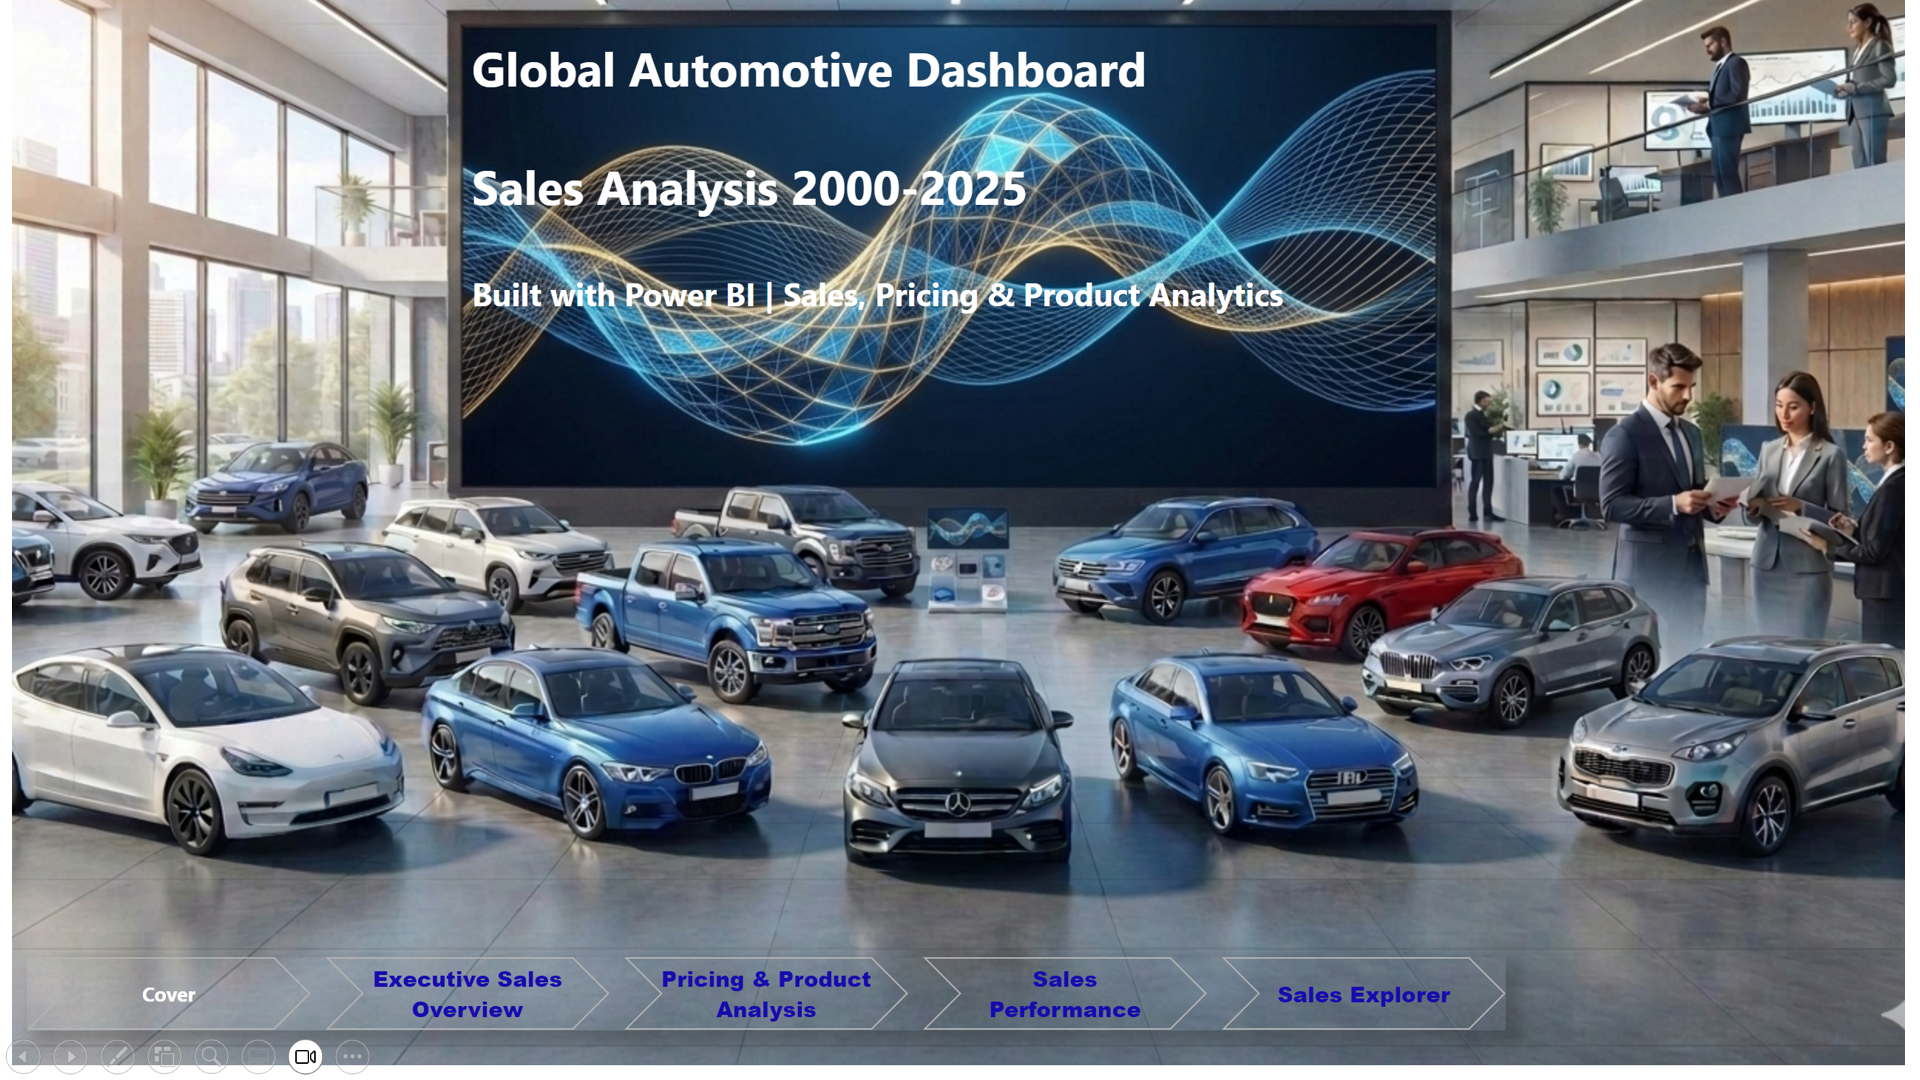

The dashboard page shown, as its layout file describes it:
{"tool":"powerbi","page":{"name":"Cover","canvas":[1280,720],"ordinal":0},"visuals":[{"type":"textbox","box":[306,19.2,568.1,79.6],"z":0},{"type":"textbox","box":[306,98.8,568.1,61.7],"z":1000},{"type":"pageNavigator","box":[9.7,646.7,1000.1,49.5],"z":2000},{"type":"textbox","box":[306.4,178.6,655.1,61.5],"z":2001}]}

Visuals, with their boxes on the page's 1280x720 design canvas (x1, y1, x2, y2). These are canvas units, not pixel positions in the 1920x1080 screenshot, which may show the page scaled, cropped or inside an application window:
textbox: (306, 19, 874, 99)
textbox: (306, 99, 874, 160)
pageNavigator: (10, 647, 1010, 696)
textbox: (306, 179, 962, 240)
